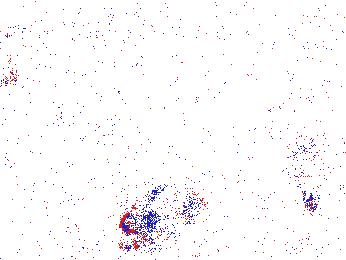flame jellyfish: (119, 184, 210, 241), (284, 135, 341, 211), (1, 41, 21, 87)
